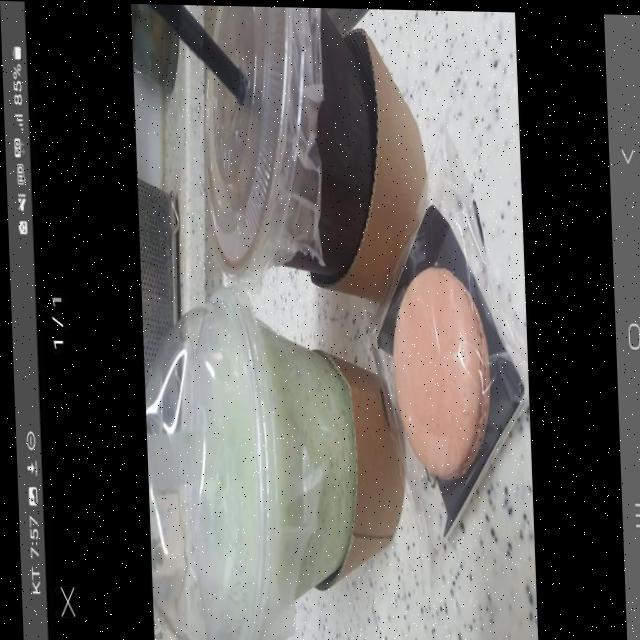cup: (131, 221, 400, 640)
